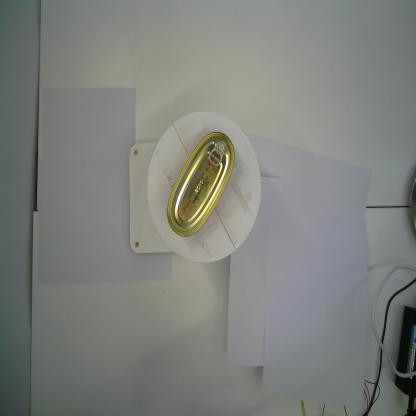Canned Food: (166, 131, 236, 237)
